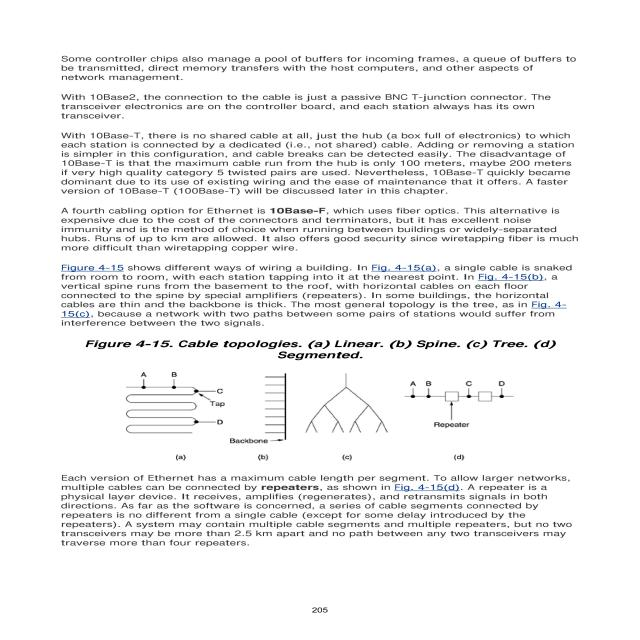diagram: (57, 332, 608, 466)
